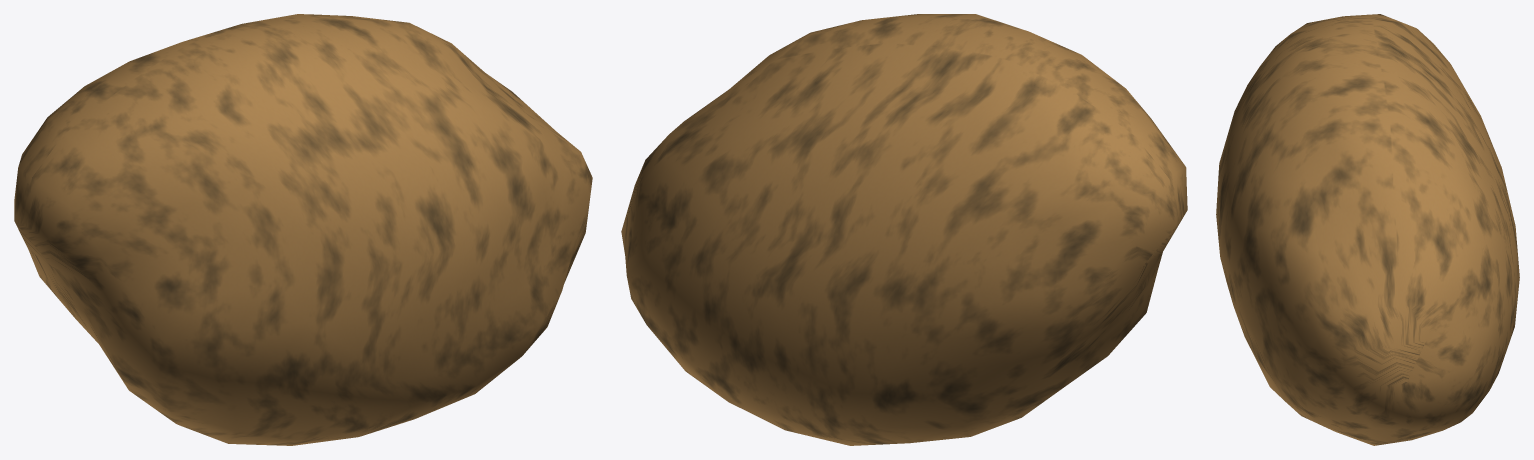
The model's file is potato.obj.
3 views of the same model, side by side, from view 1: azimuth 30°, elevation 25°; view 2: azimuth 150°, elevation 25°; view 3: azimuth 270°, elevation 25° (orthographic). The views are drawn at different scales.
Visible parts, largest first — view 1: potatoes_OBJ:PotatoA; view 2: potatoes_OBJ:PotatoA; view 3: potatoes_OBJ:PotatoA.
Part boxes in pixels (x1,y1,x2,y2): potatoes_OBJ:PotatoA: (14, 14, 592, 445); potatoes_OBJ:PotatoA: (621, 14, 1187, 445); potatoes_OBJ:PotatoA: (1216, 14, 1519, 445).
Bounding box in the file's own units: 3.44 × 2.46 × 1.98.
1 material, 1 textured.
